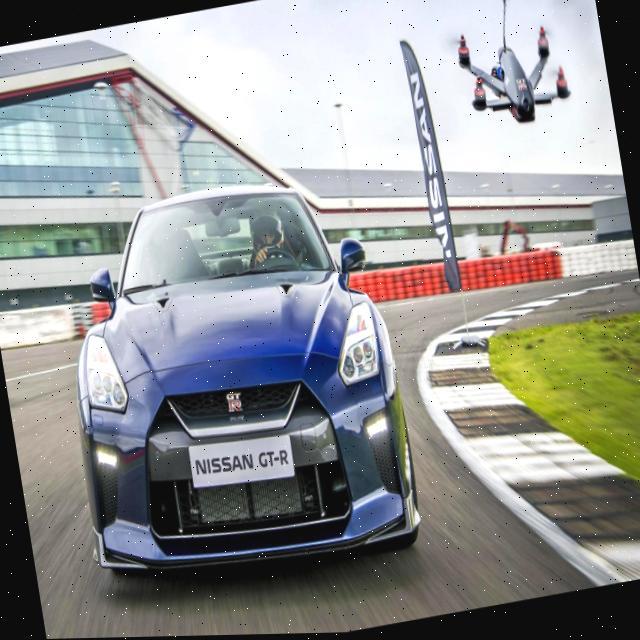drone: (429, 0, 596, 176)
